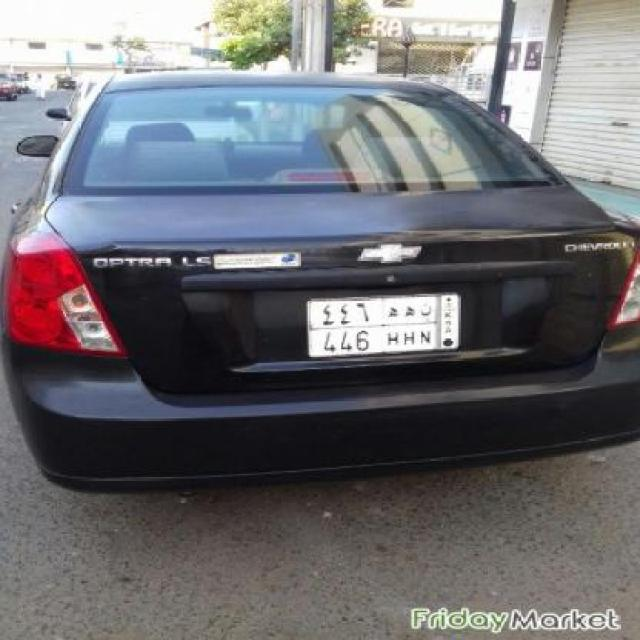license_plate: (302, 289, 464, 360)
